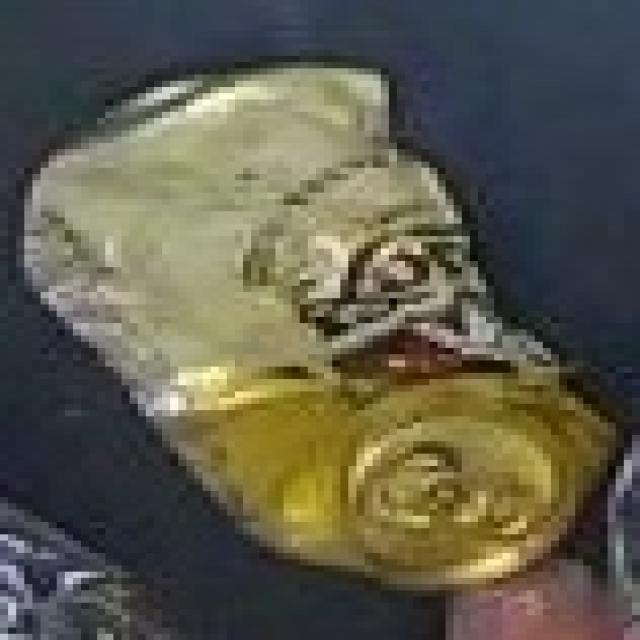litter: (0, 11, 640, 640)
